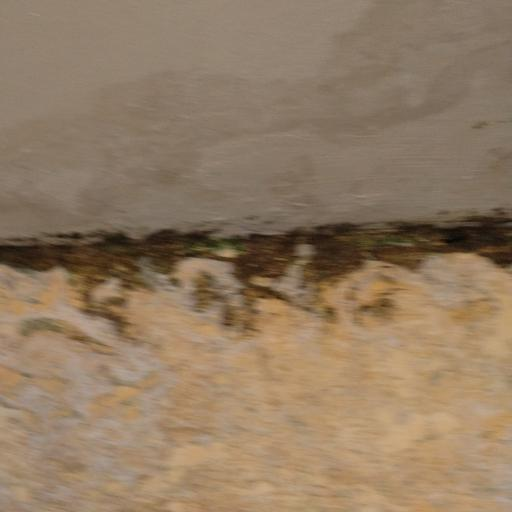algae: (3, 176, 512, 369)
